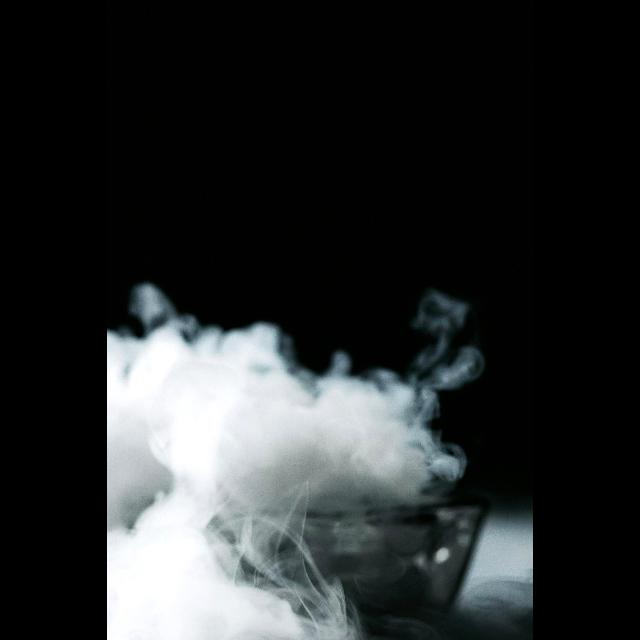smoke: (107, 288, 461, 640)
